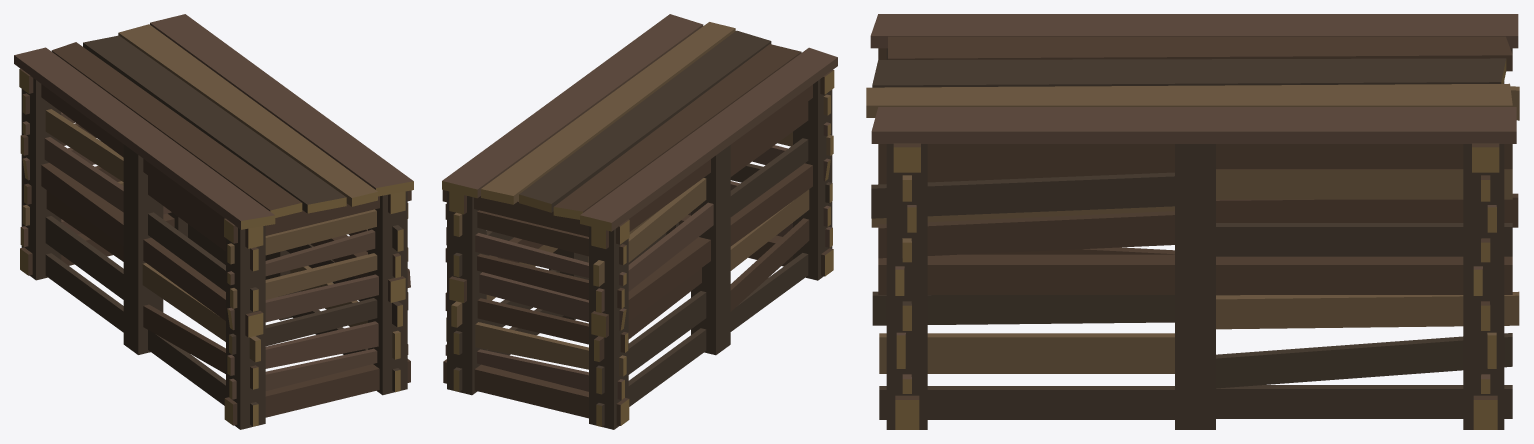
Rendered from Tavern_Table.fbx.
The picture shows the model from 3 angles, left to right: view 1: azimuth 30°, elevation 25°; view 2: azimuth 150°, elevation 25°; view 3: azimuth 270°, elevation 25°; orthographic projection. The views are drawn at different scales.
Parts seen in each view (by area): view 1: pCube2444; view 2: pCube2444; view 3: pCube2444.
Boxes of the visible parts, x1=… form: pCube2444: x1=14, y1=14, x2=413, y2=429; pCube2444: x1=442, y1=14, x2=837, y2=429; pCube2444: x1=866, y1=14, x2=1519, y2=429.
Size of the model in its own units: 106 by 121 by 239.
